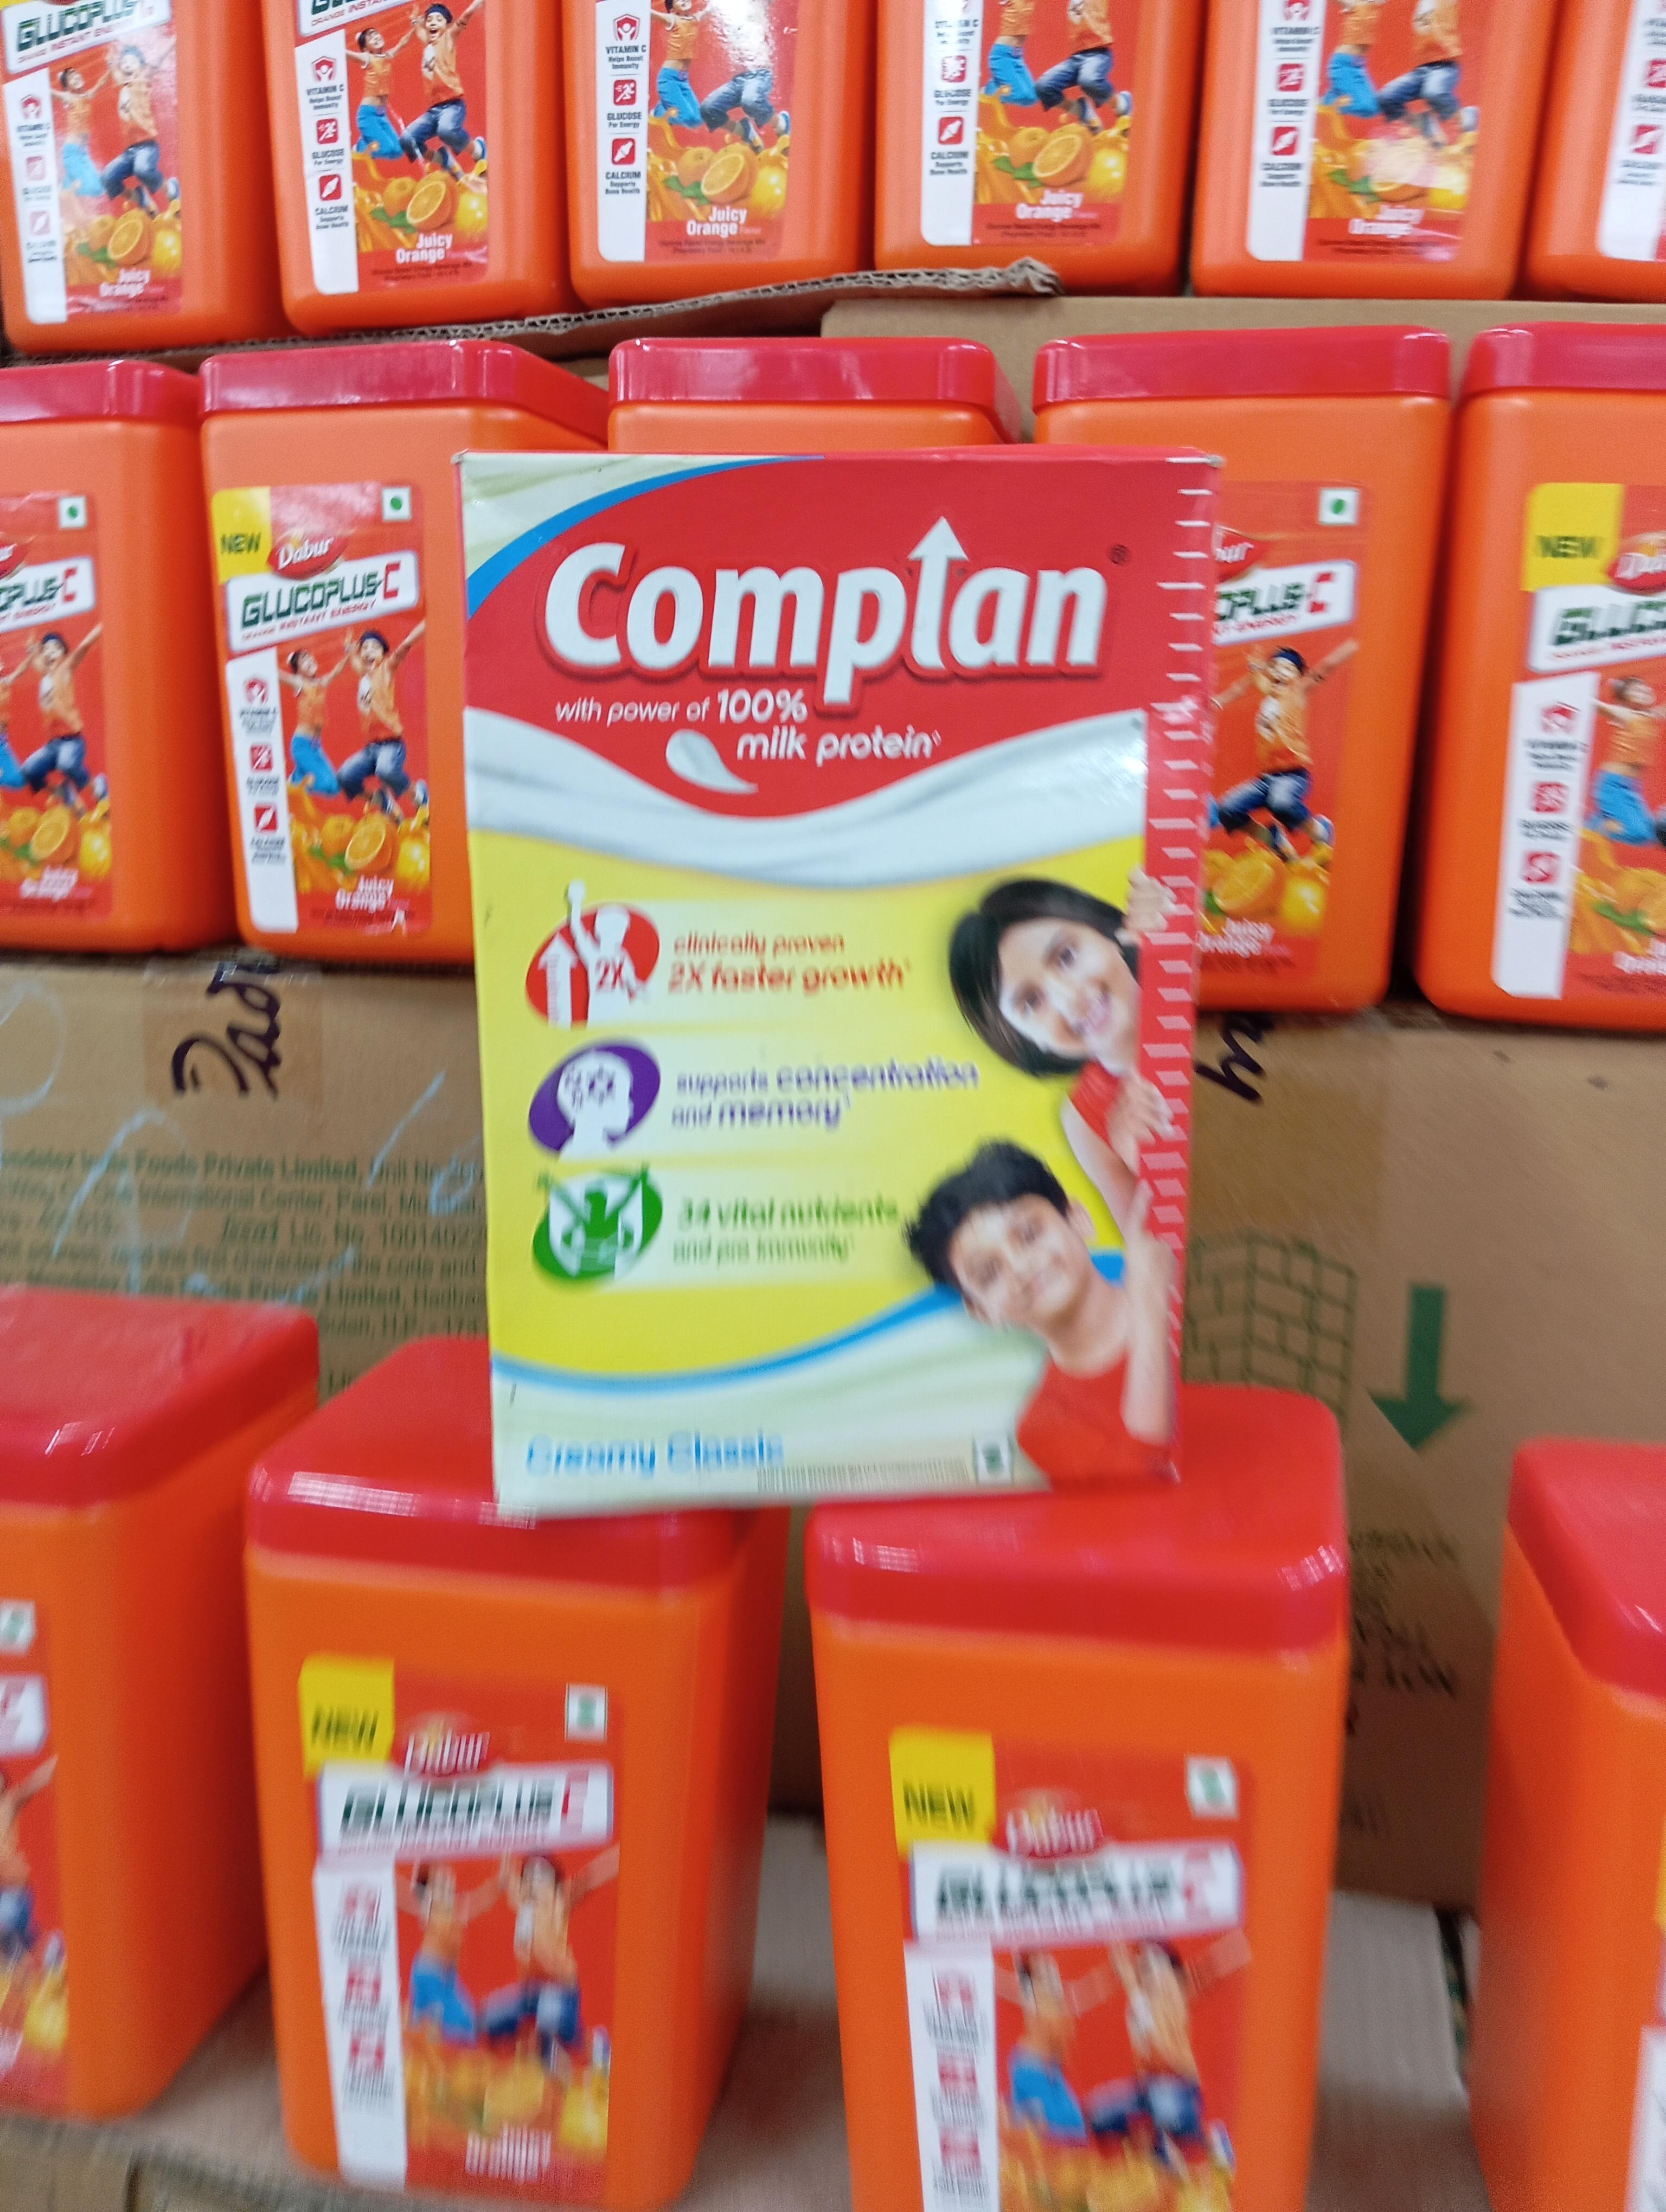COMPLAN_CREAMY_CLASSIC_500_G_PACK: (483, 449, 1188, 1502)
